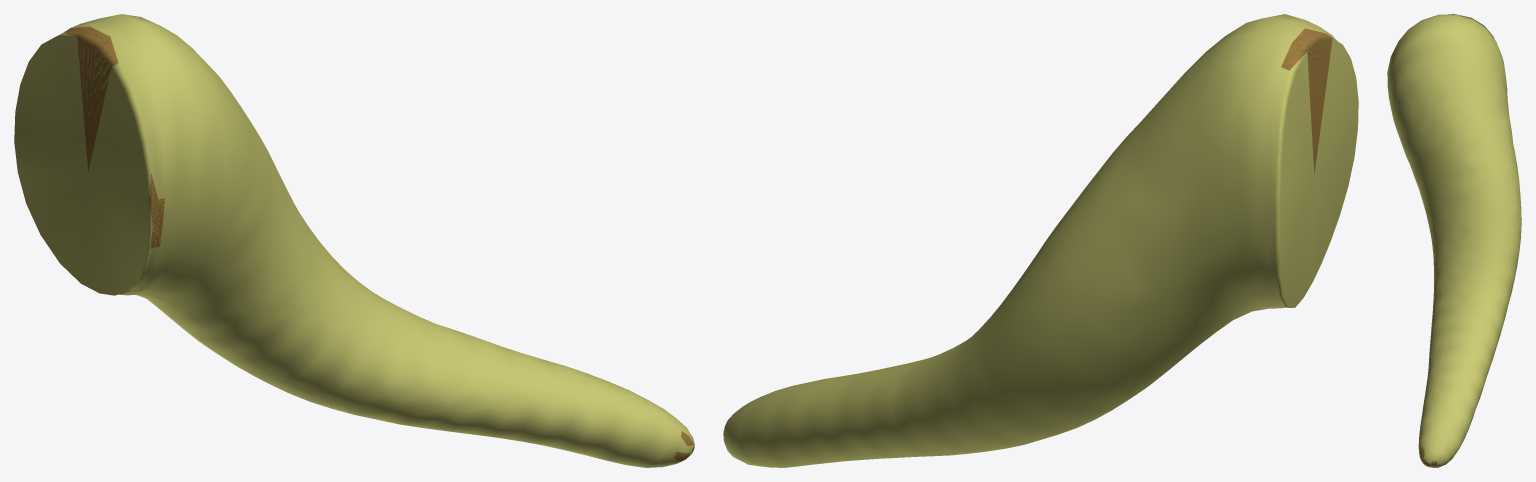
The model's file is princesaflama_brazoizquierdo.obj.
3 renders of one model, left to right at view 1: azimuth 30°, elevation 25°; view 2: azimuth 150°, elevation 25°; view 3: azimuth 270°, elevation 25°, orthographic. The views are drawn at different scales.
Visible parts, largest first — view 1: flameprincess.003; view 2: flameprincess.003; view 3: flameprincess.003.
Boxes of the visible parts, x1=… form: flameprincess.003: x1=14, y1=14, x2=694, y2=467; flameprincess.003: x1=723, y1=14, x2=1358, y2=467; flameprincess.003: x1=1387, y1=14, x2=1521, y2=467.
Bounding box in the file's own units: 1.3 × 1.14 × 0.4526.
1 material, 1 textured.
